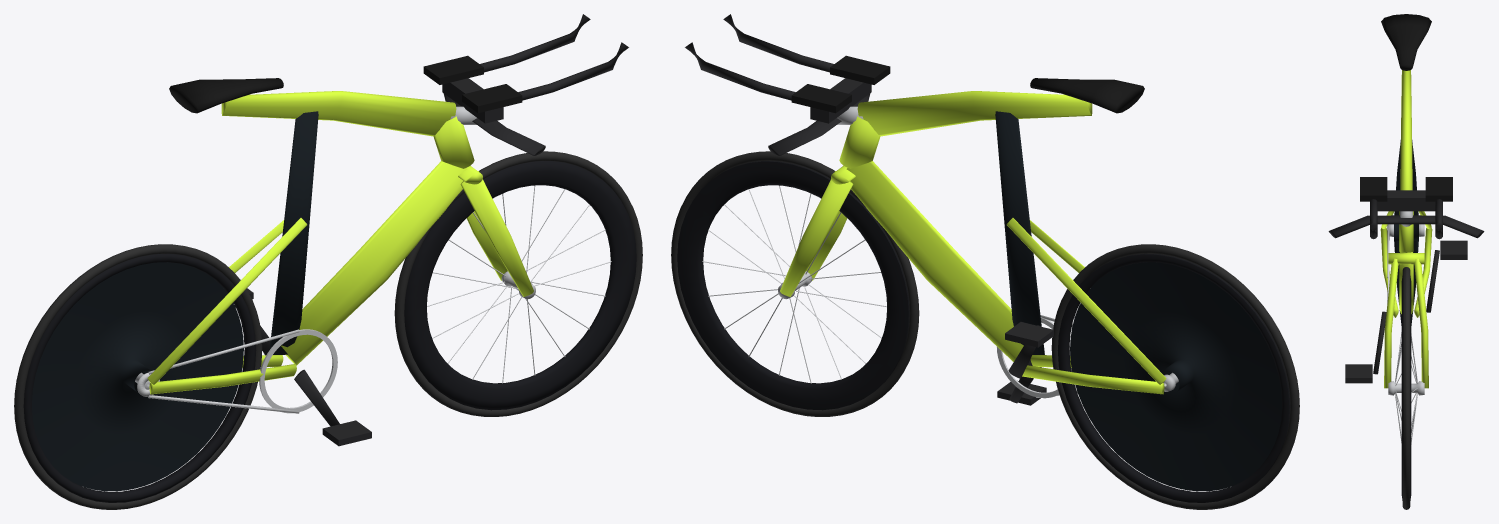
File: bike.glb
3 views of the same model, side by side, from view 1: azimuth 30°, elevation 25°; view 2: azimuth 150°, elevation 25°; view 3: azimuth 270°, elevation 25° (orthographic). The views are drawn at different scales.
Visible parts, largest first — view 1: wheel_rear_disc, wheel_front_rim, down_tube, wheel_rear_rim, beam, wheel_rear_tyre, wheel_front_tyre, strut, fork_l, saddle, seatstay_l, wheel_front_spokes (+12 smaller); view 2: wheel_rear_disc, wheel_front_rim, down_tube, wheel_rear_rim, beam, wheel_rear_tyre, wheel_front_tyre, strut, fork_r, saddle, seatstay_r, wheel_front_spokes (+10 smaller); view 3: wheel_front_tyre, saddle, beam, base_bar, pad_riser, fork_l, fork_r, wheel_rear_disc, wheel_front_rim, armpad_l, armpad_r, wheel_front_spokes (+12 smaller).
Part boxes in pixels (x1,y1,x2,y2): wheel_rear_disc: (32,262,243,491); wheel_front_rim: (404,161,636,410); down_tube: (281,161,467,365); wheel_rear_rim: (23,253,256,502); beam: (221,91,456,136); wheel_rear_tyre: (14,244,262,509); wheel_front_tyre: (394,151,642,416); strut: (269,111,318,354); fork_l: (460,171,533,296); saddle: (169,78,283,113); seatstay_l: (147,218,307,384); wheel_front_spokes: (427,185,611,383); wheel_rear_disc: (1070,262,1281,491); wheel_front_rim: (677,161,909,410); down_tube: (846,161,1023,361); wheel_rear_rim: (1057,253,1290,502); beam: (857,91,1092,136); wheel_rear_tyre: (1051,244,1299,509); wheel_front_tyre: (671,151,919,416); strut: (995,111,1044,354); fork_r: (780,171,853,296); saddle: (1030,78,1144,113); seatstay_r: (1006,218,1166,384); wheel_front_spokes: (702,185,886,383); wheel_front_tyre: (1402,267,1410,509); saddle: (1381,14,1431,70); beam: (1400,70,1412,190); base_bar: (1328,215,1484,238); pad_riser: (1377,190,1435,211); fork_l: (1384,258,1398,388); fork_r: (1414,258,1428,388); wheel_rear_disc: (1394,140,1418,325); wheel_front_rim: (1401,276,1411,500); armpad_l: (1360,177,1387,201); armpad_r: (1425,177,1452,201); wheel_front_spokes: (1395,332,1417,444).
Size of the model in its own units: 1.7 by 1.05 by 0.4281.
